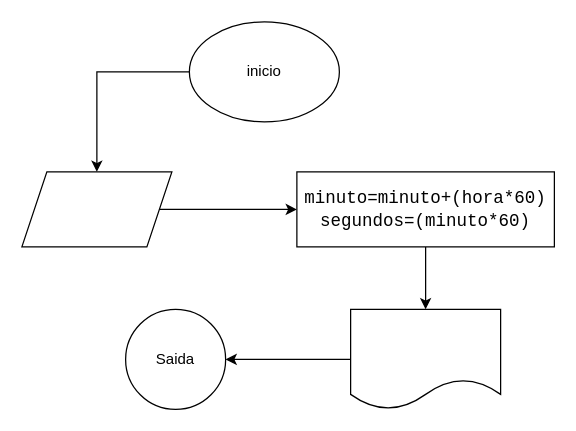
Some shapes in this 576 by 431 pixel diagram are drawn without their labels. The shapes that lost their labels are listed below. From the top down, each one's centre as x and y in pixels, then its label:
At point 96,209: "hora, minuto".
At point 425,358: "segundos".
